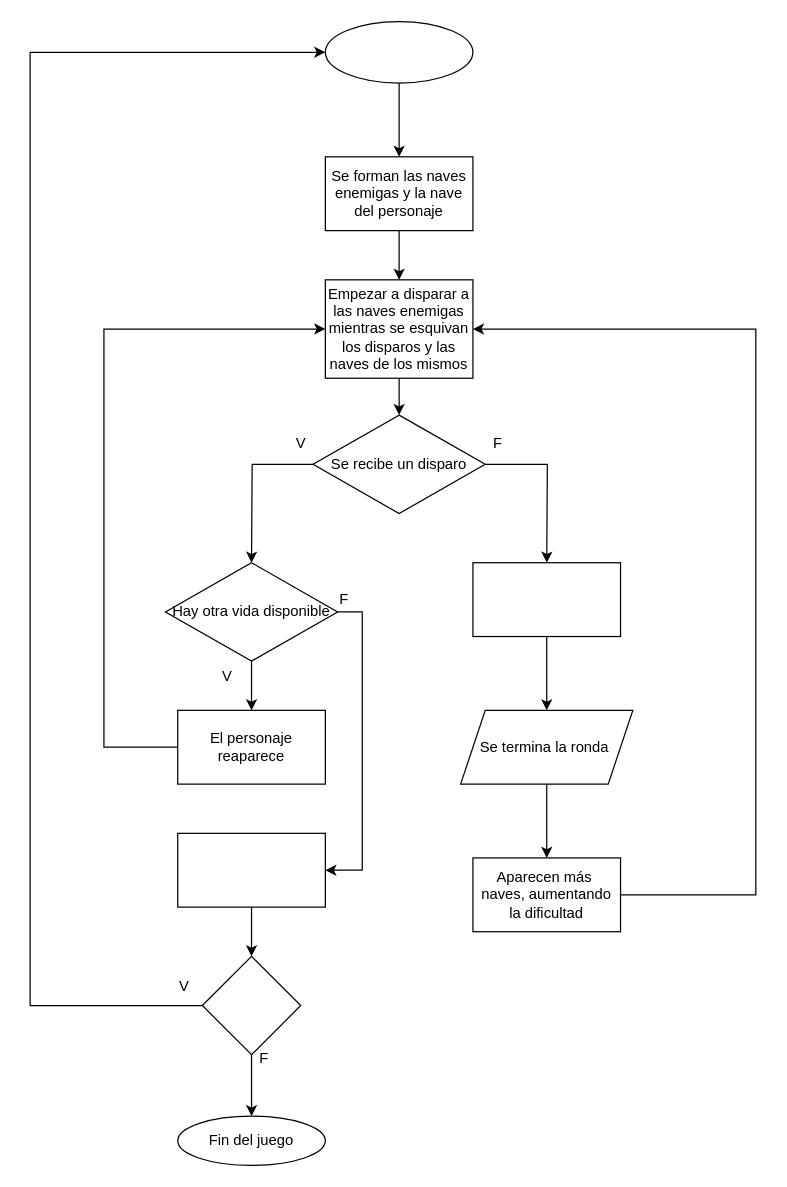
Some shapes in this 787 by 1187 pixel diagram are drawn without their labels. Here are the shapes that lost their labels. From the top down, the box of each, then its label:
(324, 20, 473, 83): Inicio del juego
(472, 561, 621, 637): Continuar disparando y esquivando
(177, 832, 325, 907): Partida terminada
(201, 955, 301, 1055): Jugar otra partida
